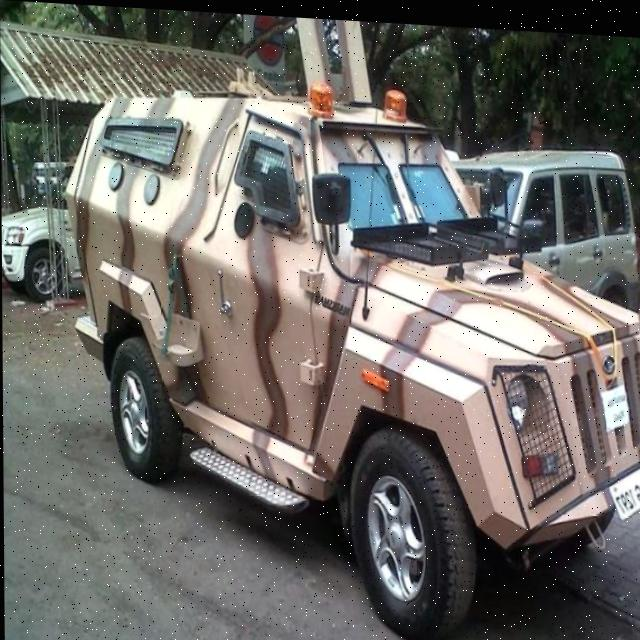plate: (609, 450, 640, 513)
